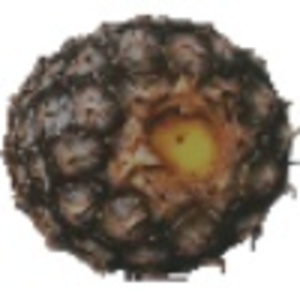abacaxi: (3, 7, 285, 281)
